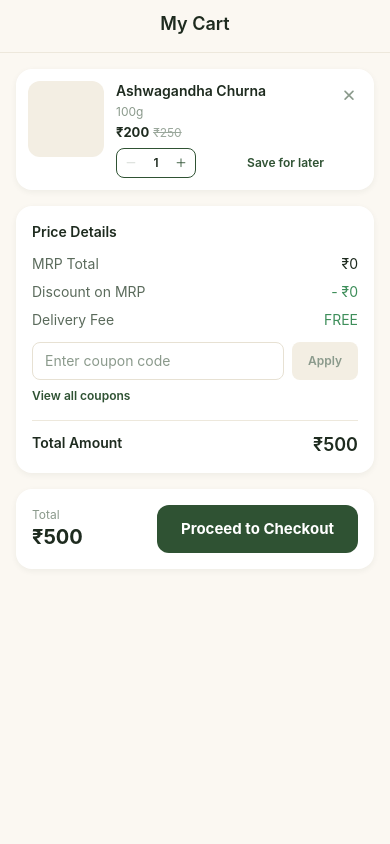
it: CartScreen › entering a coupon code directly › shows an inline error for an invalid code, without applying it
Type "BADCODE" into the field with placeholder "Enter coupon code". click: [158, 361]
box: left=32, top=342, right=284, bottom=380
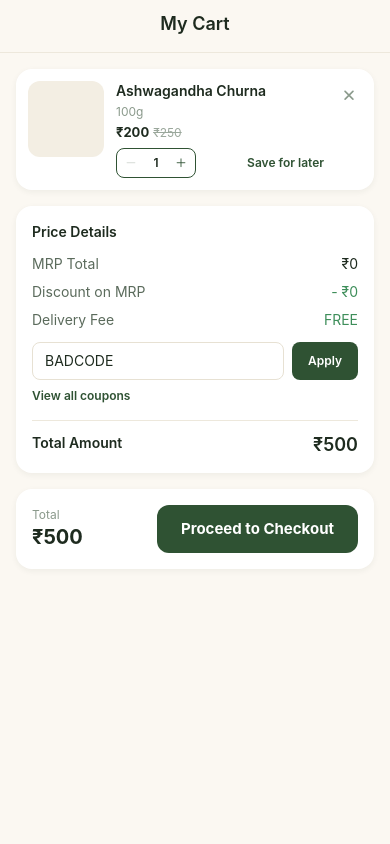
Click the button "Apply". click: [325, 361]
box: left=292, top=342, right=358, bottom=380
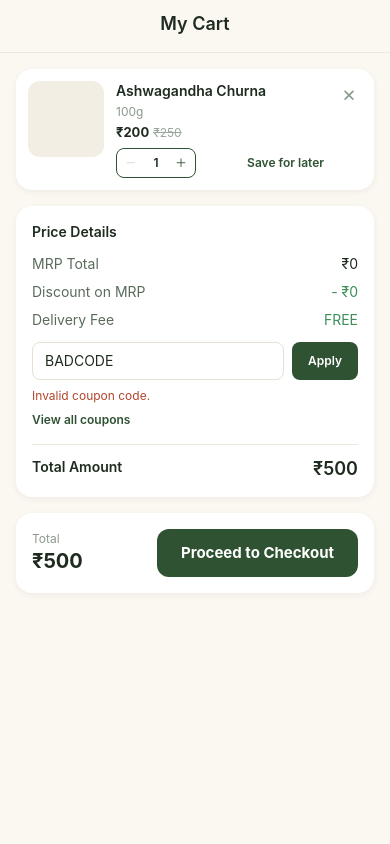
Check: the text "Invalid coupon code." is shown, box left=32, top=388, right=150, bottom=403
